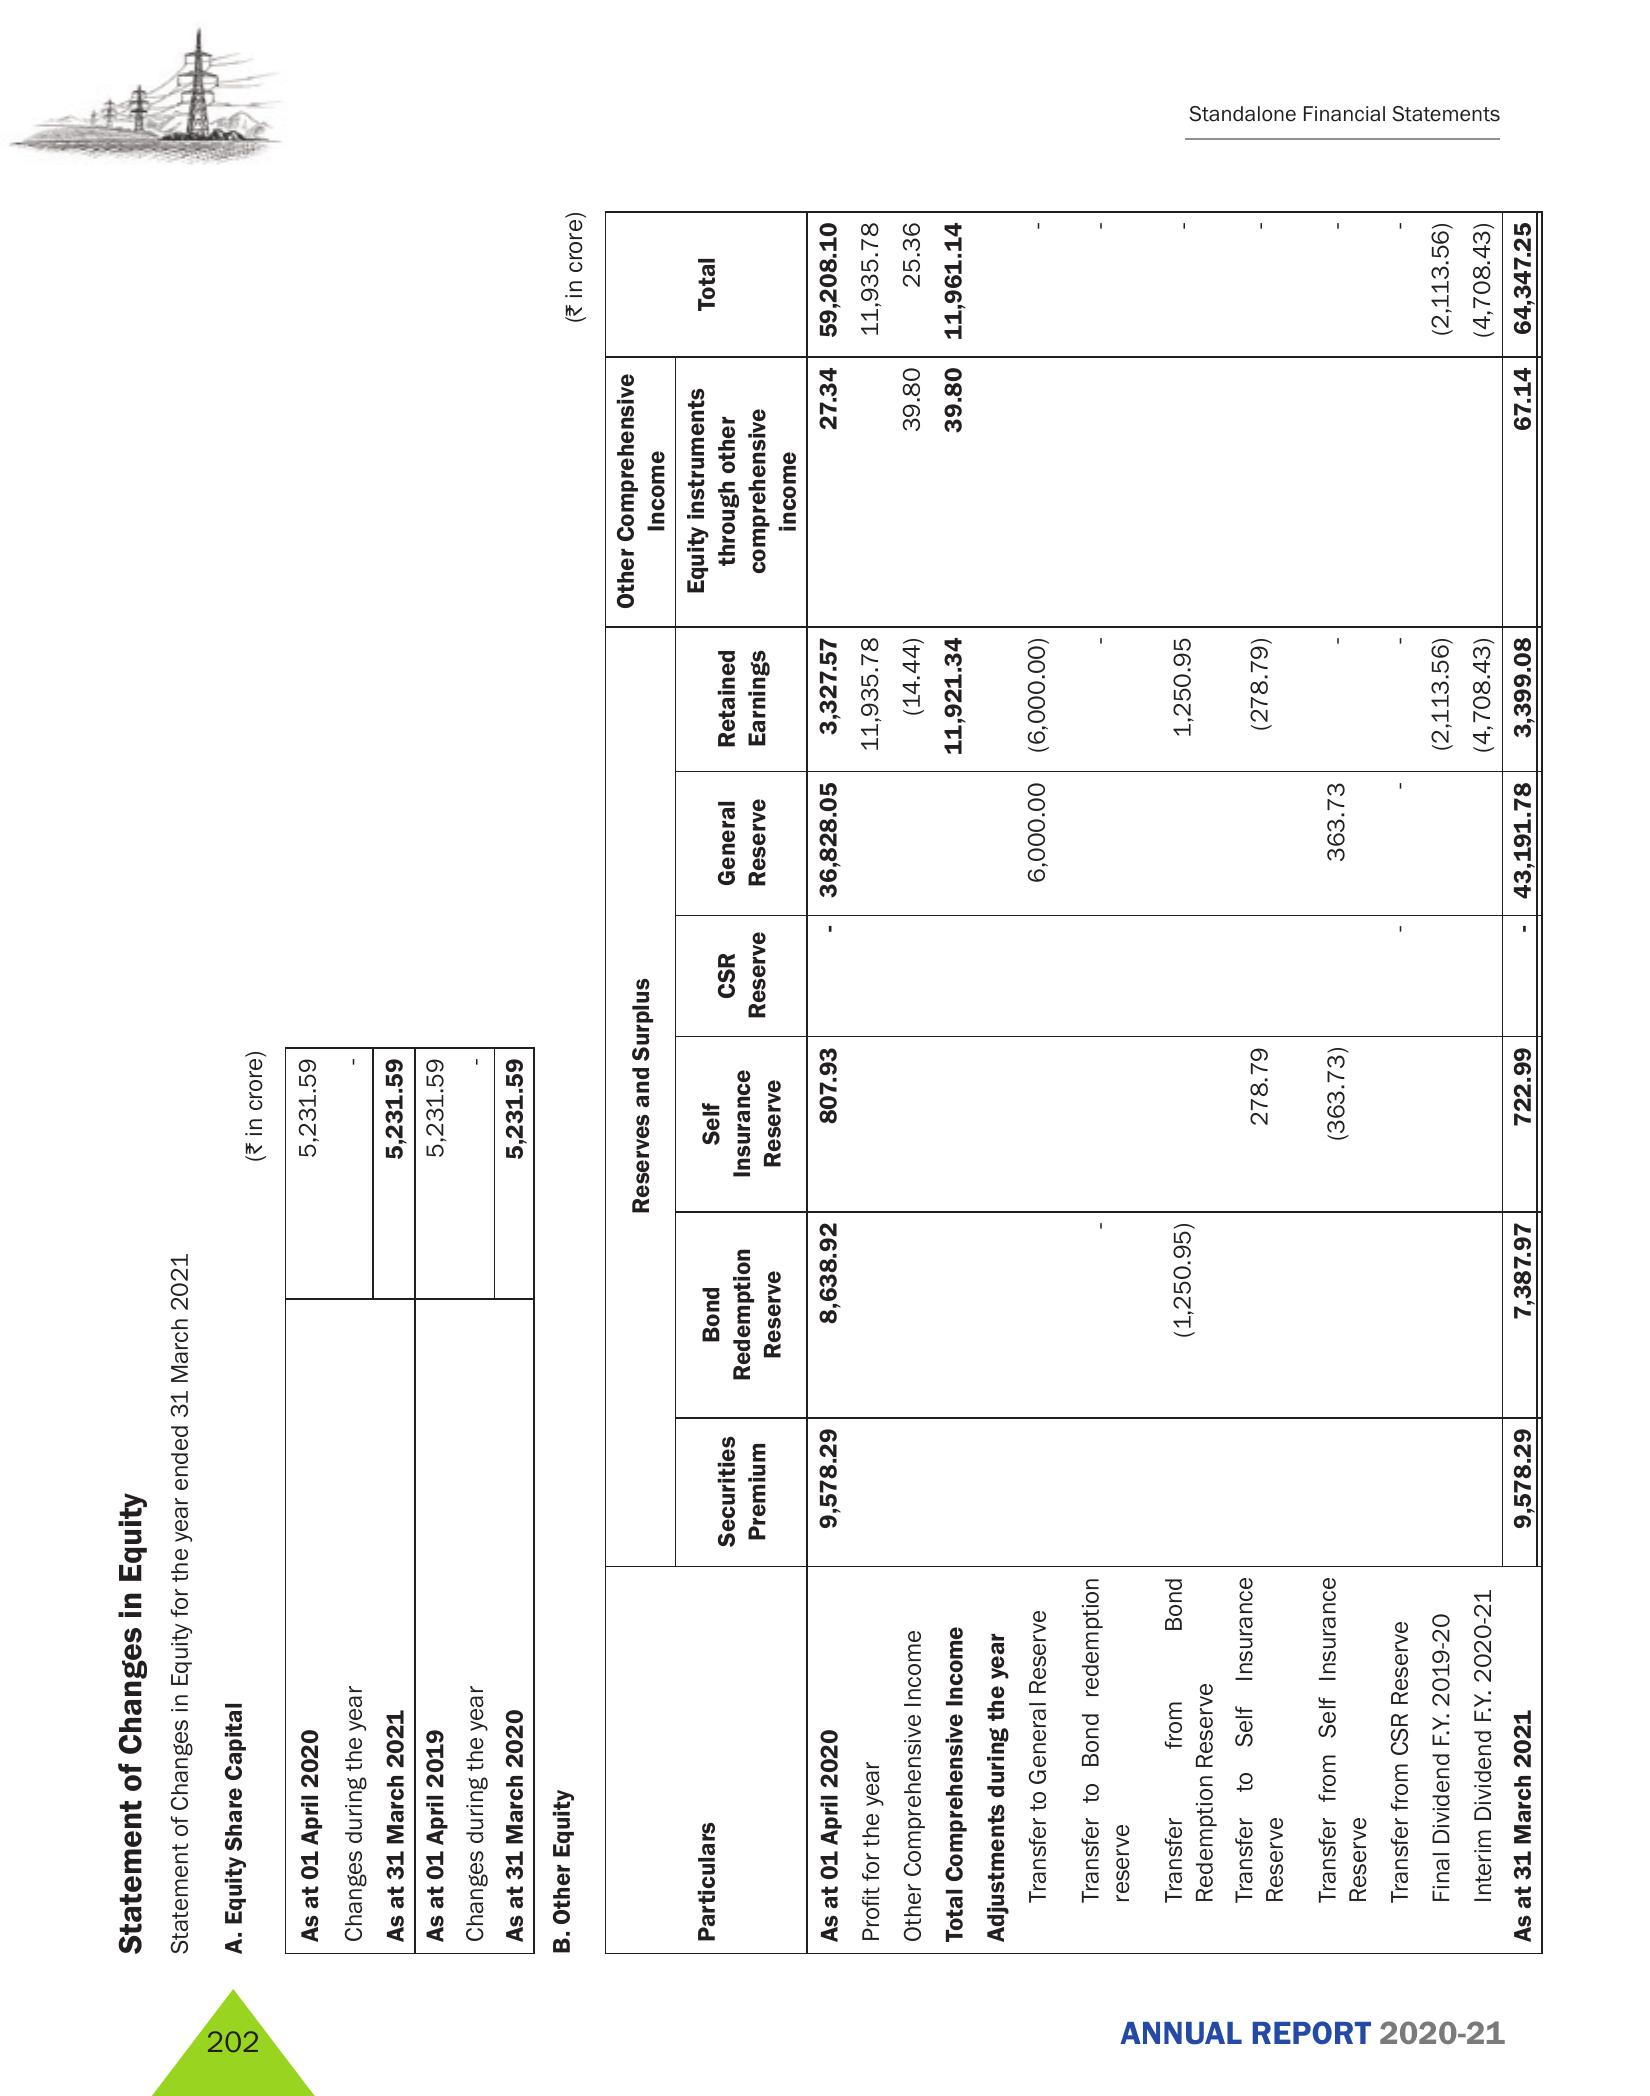Footer: (0, 1979, 1650, 2096)
Header: (0, 0, 1650, 168)
Table: (580, 192, 1597, 1965), (201, 960, 543, 1968)
